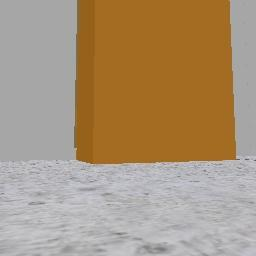tonomat: (76, 0, 235, 163)
